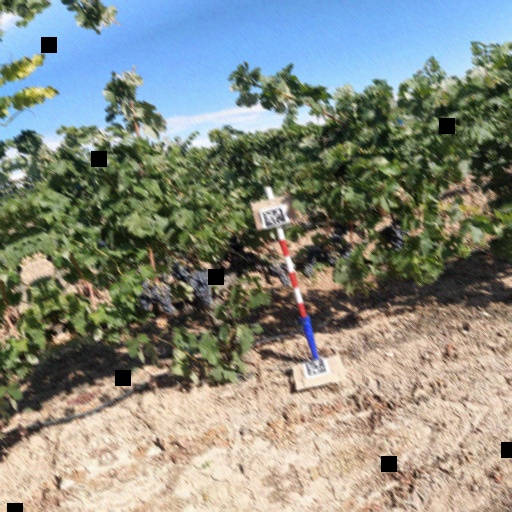QR: (260, 205, 288, 230), (302, 356, 330, 379)
